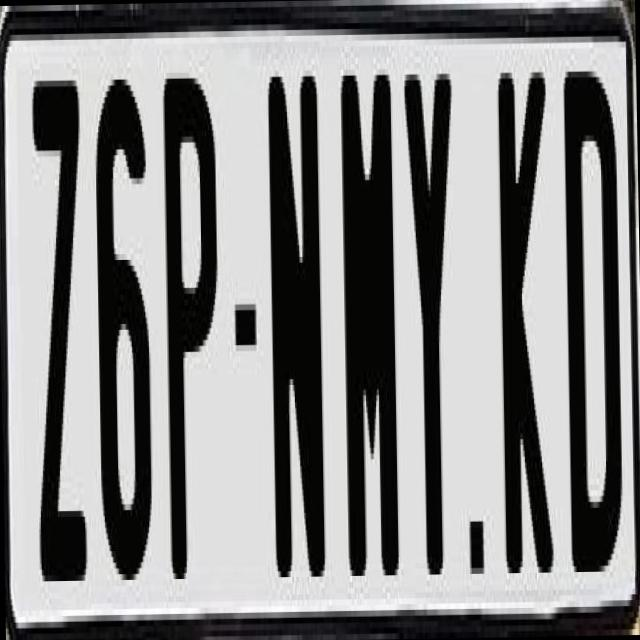6: (90, 79, 158, 586)
D: (562, 52, 624, 554)
K: (496, 71, 554, 574)
M: (337, 56, 400, 594)
N: (264, 70, 326, 577)
P: (158, 78, 218, 602)
Y: (404, 61, 468, 568)
Z: (28, 74, 88, 610)
